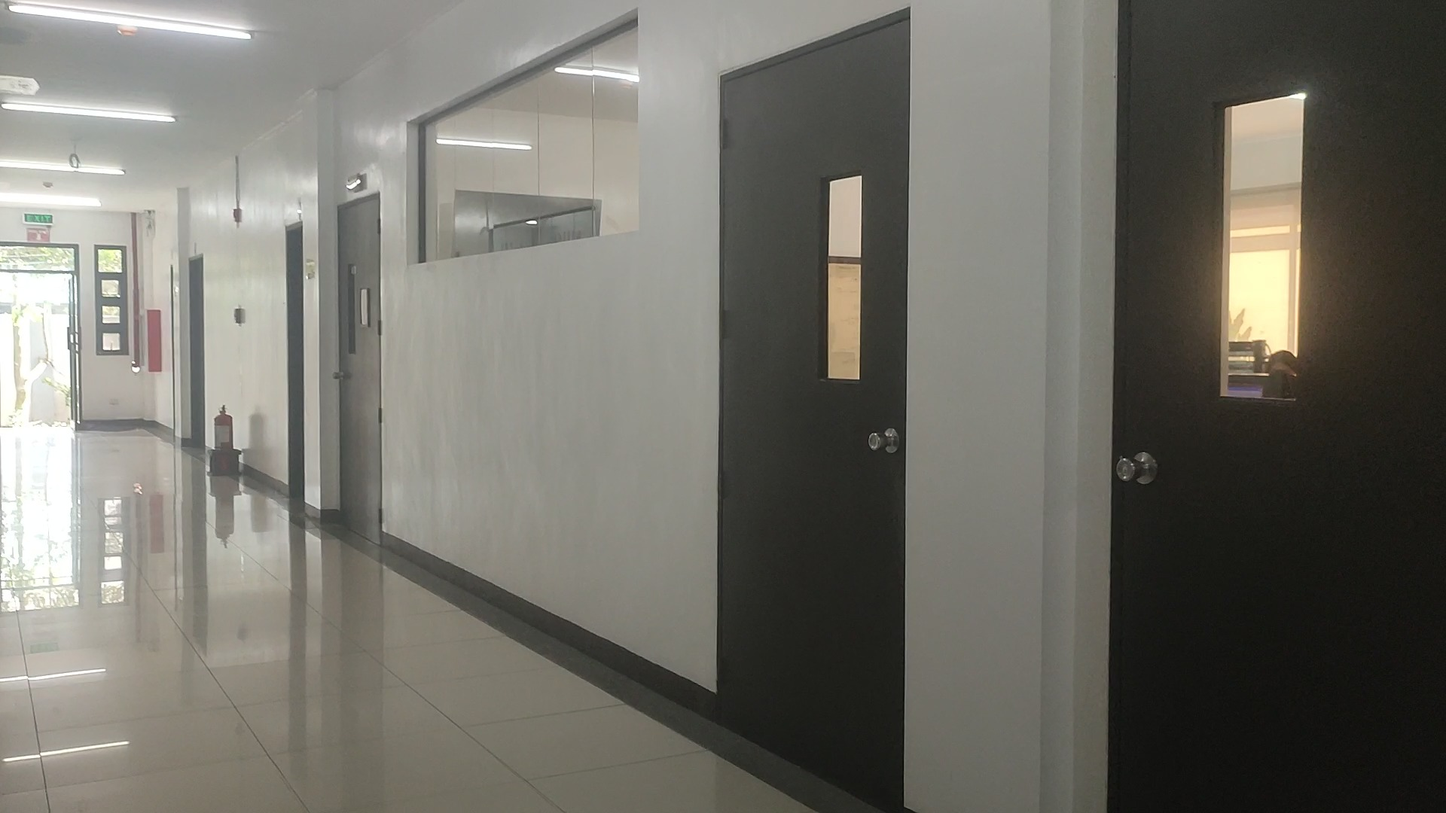door: (1106, 0, 1446, 813), (709, 7, 910, 813), (328, 185, 381, 544)
